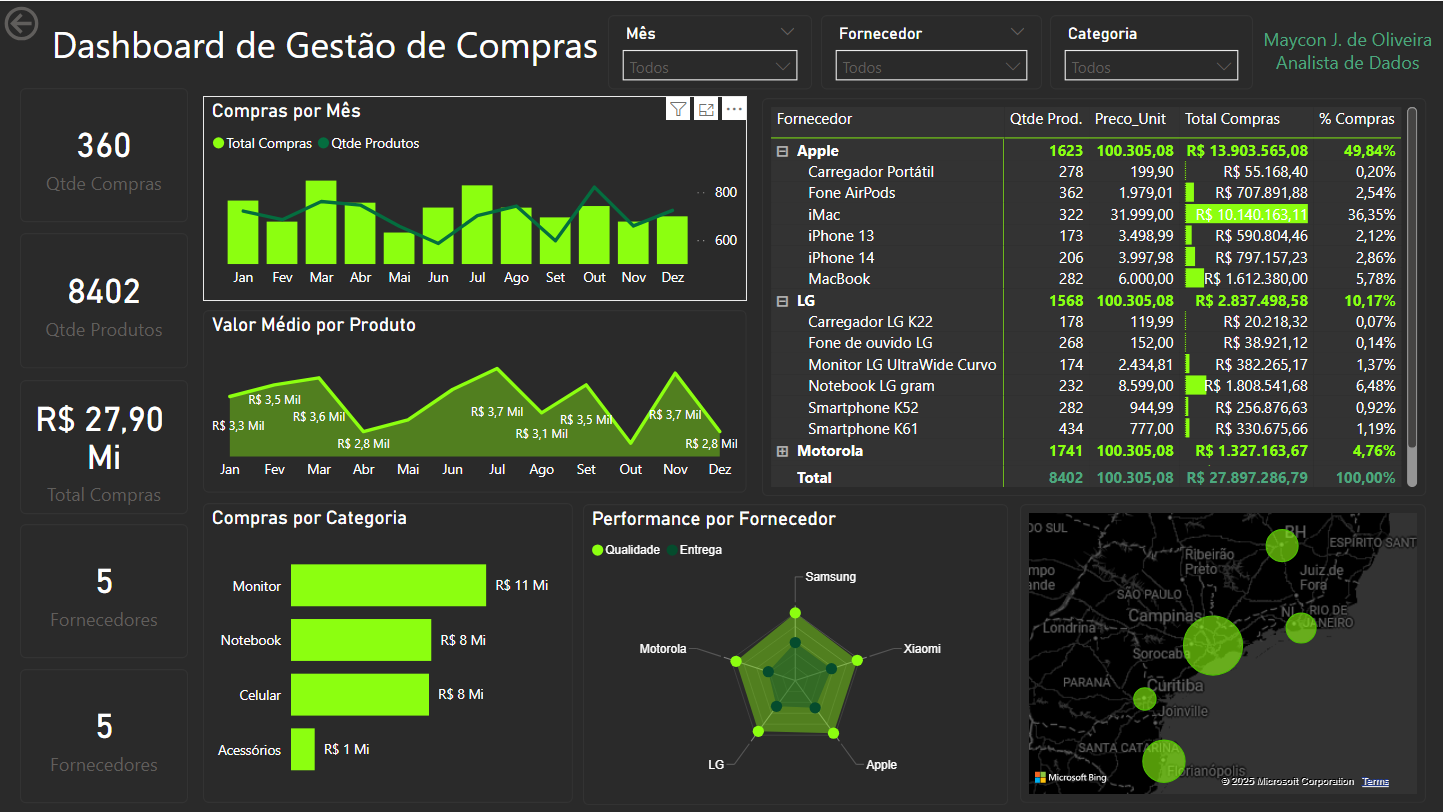

Layout of this report page (visuals, bound fields, positions):
{"tool":"powerbi","page":{"name":"Visão Geral","canvas":[1280,720],"ordinal":1},"visuals":[{"type":"card","fields":{"Values":["#Medidas.Qtde Pedidos Compra"]},"box":[18.8,77.5,148.8,118.8],"z":0},{"type":"card","fields":{"Values":["#Medidas.Quantidade"]},"box":[18.8,205.9,148.8,120],"z":1000},{"type":"card","fields":{"Values":["#Medidas.Total Compras"]},"box":[18.8,335.6,148.8,118.8],"z":2000},{"type":"card","fields":{"Values":["Count(Fornecedores.Fornecedor )"]},"box":[18.8,464.1,148.8,118.8],"z":3000},{"type":"lineStackedColumnComboChart","title":"Compras por Mês","fields":{"Y":["#Medidas.Total Compras"],"Y2":["#Medidas.Quantidade"],"Category":["dim_calendario.Mes abev"]},"box":[181,84,482,182],"z":4000},{"type":"barChart","title":"Compras por Categoria","fields":{"Category":["Produtos.Categoria"],"Y":["#Medidas.Total Compras"]},"box":[181,445,328,266],"z":5000},{"type":"pivotTable","fields":{"Rows":["Fornecedores.Fornecedor ","Produtos.Descricao_Produto"],"Values":["#Medidas.Quantidade","Sum(Produtos.Preco_Unit)","#Medidas.Total Compras","Divide(#Medidas.Total Compras, ScopedEval(#Medidas.Total Compras, []))"]},"box":[676.4,85.7,588.6,352.9],"z":6000},{"type":"RadarChart1446119667547","title":"Performance por Fornecedor ","fields":{"Category":["Fornecedores.Fornecedor "],"Y":["Sum(Compras.Qualidade)","Sum(Compras.Entrega)"]},"box":[518,446,377,267],"z":7000},{"type":"stackedAreaChart","title":"Valor Médio por Produto ","fields":{"Y":["#Medidas.Média Valor Produto"],"Category":["dim_calendario.Mes abev"]},"box":[181,274,482,162],"z":8000},{"type":"slicer","fields":{"Values":["dim_calendario.Nome do Mês"]},"box":[540,12.4,180.9,65.6],"z":9000},{"type":"slicer","fields":{"Values":["Fornecedores.Fornecedor "]},"box":[729,12,196,66],"z":10000},{"type":"slicer","fields":{"Values":["Produtos.Categoria"]},"box":[932,12,180,66],"z":11000},{"type":"textbox","box":[41.7,10.6,498.3,73.6],"z":12000},{"type":"map","fields":{"Category":["Fornecedores.Estado"],"Size":["#Medidas.Total Compras"]},"box":[905,446.2,360,265],"z":13000},{"type":"card","fields":{"Values":["Count(Fornecedores.Fornecedor )"]},"box":[18.8,592.5,148.8,118.8],"z":14000},{"type":"textbox","box":[1112,18,168,66],"z":15000},{"type":"actionButton","box":[0,0,41.7,39.9],"z":16000}]}

Visuals, with their boxes in screenshot pixels (x1, y1, x2, y2), scaled from the page's 1280x720 canvas onto the 1443x812 screenshot:
card - #Medidas.Qtde Pedidos Compra: <region>21, 87, 189, 221</region>
card - #Medidas.Quantidade: <region>21, 232, 189, 368</region>
card - #Medidas.Total Compras: <region>21, 378, 189, 512</region>
card - Count(Fornecedores.Fornecedor ): <region>21, 523, 189, 657</region>
"Compras por Mês" lineStackedColumnComboChart: <region>204, 95, 747, 300</region>
"Compras por Categoria" barChart: <region>204, 502, 574, 802</region>
pivotTable - Fornecedores.Fornecedor  x Produtos.Descricao_Produto: <region>763, 97, 1426, 495</region>
"Performance por Fornecedor " RadarChart1446119667547: <region>584, 503, 1009, 804</region>
"Valor Médio por Produto " stackedAreaChart: <region>204, 309, 747, 492</region>
slicer - dim_calendario.Nome do Mês: <region>609, 14, 813, 88</region>
slicer - Fornecedores.Fornecedor : <region>822, 14, 1043, 88</region>
slicer - Produtos.Categoria: <region>1051, 14, 1254, 88</region>
textbox: <region>47, 12, 609, 95</region>
map - Fornecedores.Estado x #Medidas.Total Compras: <region>1020, 503, 1426, 802</region>
card - Count(Fornecedores.Fornecedor ): <region>21, 668, 189, 802</region>
textbox: <region>1254, 20, 1442, 95</region>
actionButton: <region>0, 0, 47, 45</region>
